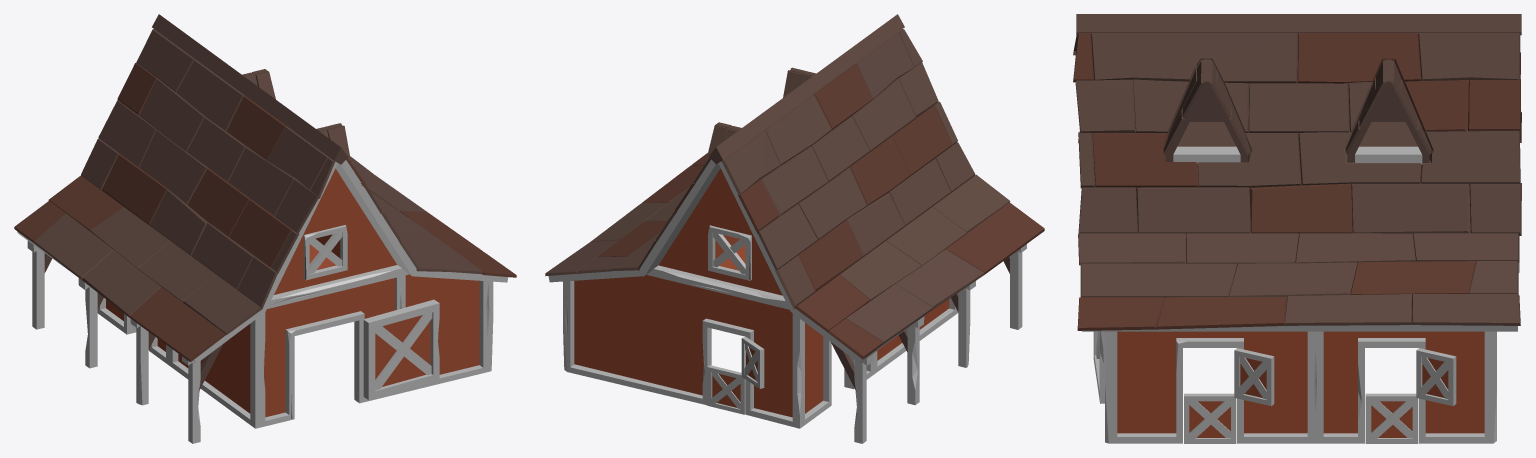
Rendered from Comida1.fbx.
3 renders of one model, left to right at view 1: azimuth 30°, elevation 25°; view 2: azimuth 150°, elevation 25°; view 3: azimuth 270°, elevation 25°, orthographic. The views are drawn at different scales.
Parts seen in each view (by area): view 1: Stable.001; view 2: Stable.001; view 3: Stable.001.
Part boxes in pixels (x1,y1,x2,y2): Stable.001: (14,14,516,443); Stable.001: (545,14,1044,443); Stable.001: (1073,14,1521,443).
Bounding box in the file's own units: 287 × 225 × 276.
